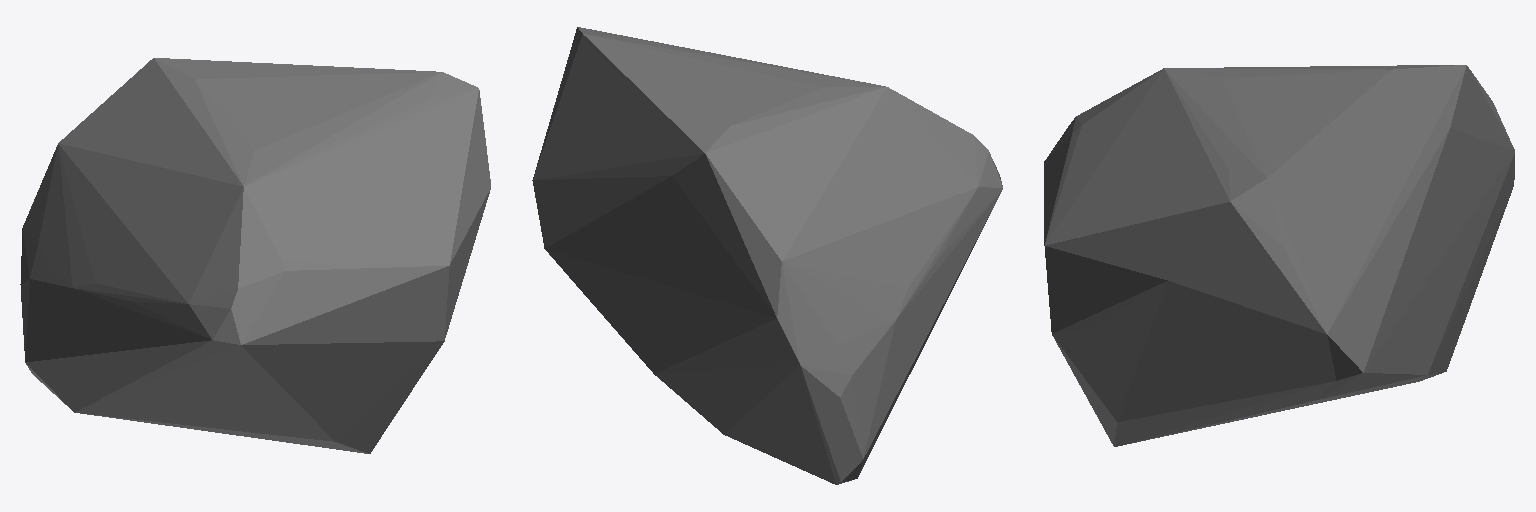
URDF robot description (60_288):
<?xml version="1.0"?>
<robot name="60_288">
  <link name="link">
    <contact>
      <lateral_friction value="0.6"/>
    </contact>
    <inertial>
      <origin xyz="-0.0039208294325378855 -0.0014638062891897475 0.0015089355705312554" rpy="0 0 0"/>
      <mass value = "0.516673495995255"/>
      <inertia ixx="0.00029774189163131" ixy="-3.763841874064794e-05" ixz="3.8908302294633337e-05" iyy="0.0003044255181117886" iyz="-4.154788326626127e-06" izz="0.00035484239711964773" />
    </inertial>
    <visual name="visual">
      <geometry>
        <mesh filename="60_288.obj"/>
      </geometry>
      <material name="material">
        <color rgba="0.5109516254525126 0.5109516254525126 0.5109516254525126 1.0"/>
      </material>
    </visual>
    <collision name="collision">
      <geometry>
        <mesh filename="60_288.obj"/>
      </geometry>
    </collision>
  </link>
</robot>

--- What the picture shows (computed from the rendered views, not written in the file) ---
Views: 3 orthographic renders of the robot side by side, from view 1: azimuth 30°, elevation 25°; view 2: azimuth 150°, elevation 25°; view 3: azimuth 270°, elevation 25°.
Model 60_288 with 1 links and 0 joints (none), rooted at link, posed all joints at 0.
Links seen in each view (by area): view 1: link; view 2: link; view 3: link.
Boxes of the visible links, box(x1,y1,x2,y2) form: link: box(20, 58, 490, 453); link: box(532, 27, 1002, 484); link: box(1044, 65, 1514, 446).
Bounding box of the posed robot: 0.0835 × 0.0814 × 0.0669 m (x, y, z).
Meshes: 1 distinct files referenced, 1 mesh visuals loaded (1 OBJ).
